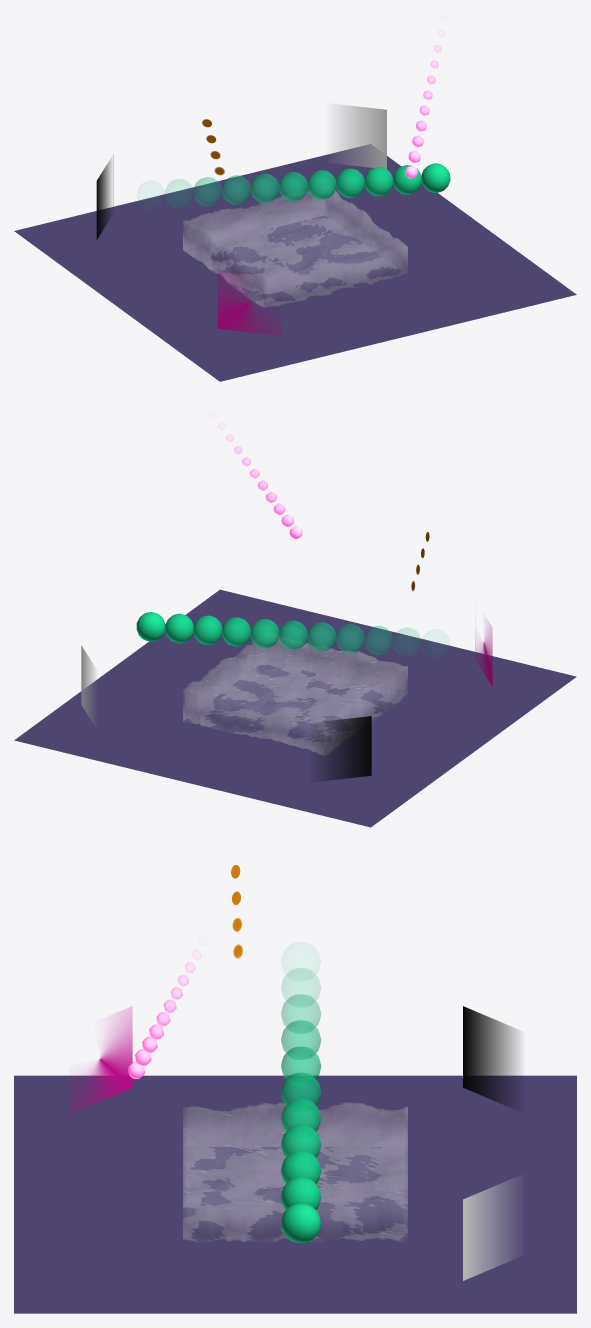
The model's file is transparency.glb.
3 views of the same model, one above another, from view 1: azimuth 30°, elevation 25°; view 2: azimuth 150°, elevation 25°; view 3: azimuth 270°, elevation 25° (orthographic). The views are drawn at different scales.
Parts seen in each view (by area): view 1: Plane, Plane.003, Sphere.010, Plane.002, Plane.005, Plane.001, Sphere.011; view 2: Plane, Plane.003, Sphere.010, Plane.001, Plane.002, Sphere.011, Plane.005; view 3: Plane, Plane.003, Sphere.010, Plane.001, Plane.002, Plane.005, Sphere.011.
Part boxes in pixels (x1,y1,x2,y2): Plane: [14, 144, 576, 381]; Plane.003: [183, 190, 407, 307]; Sphere.010: [165, 163, 450, 207]; Plane.002: [333, 104, 386, 169]; Plane.005: [217, 269, 280, 335]; Plane.001: [96, 154, 113, 239]; Sphere.011: [405, 30, 444, 178]; Plane: [14, 589, 576, 827]; Plane.003: [183, 638, 407, 755]; Sphere.010: [136, 612, 421, 656]; Plane.001: [318, 716, 371, 780]; Plane.002: [81, 645, 95, 726]; Sphere.011: [218, 423, 302, 539]; Plane.005: [475, 622, 492, 686]; Plane: [14, 1075, 576, 1313]; Plane.003: [183, 1102, 407, 1241]; Sphere.010: [281, 968, 321, 1243]; Plane.001: [463, 1006, 516, 1109]; Plane.002: [463, 1177, 516, 1280]; Plane.005: [69, 1006, 132, 1113]; Sphere.011: [128, 950, 201, 1079].
Size of the model in its own units: 10 by 6.64 by 10.
28 materials, 4 textured.
